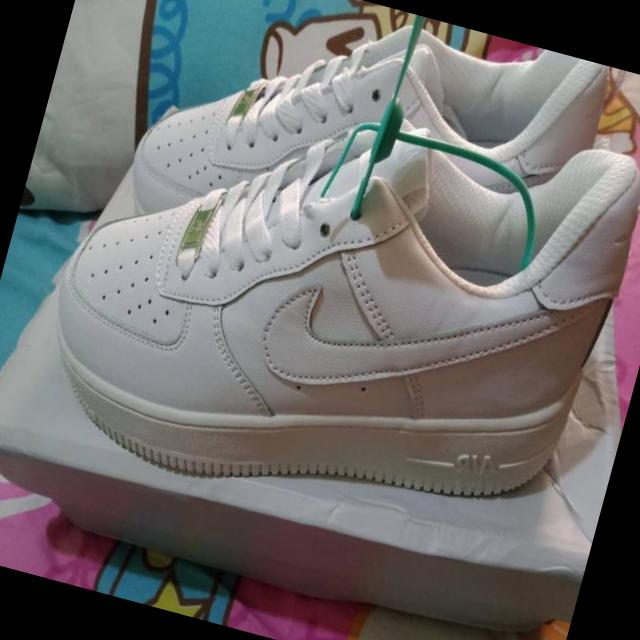nike_fake_airforce: (22, 22, 640, 571), (120, 0, 615, 325)
